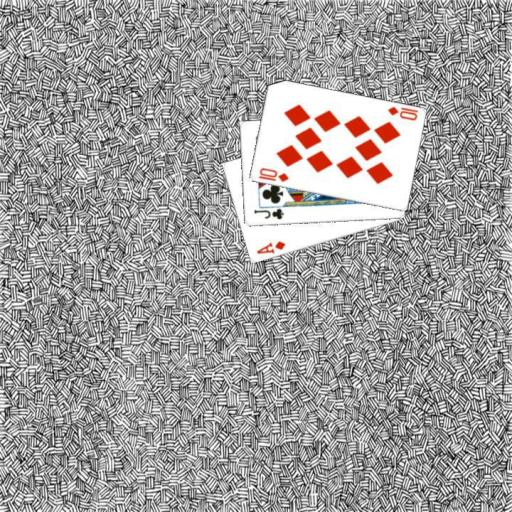10D: (384, 103, 420, 122), (255, 165, 290, 183)
AD: (253, 239, 287, 256)
JC: (251, 206, 285, 221)
